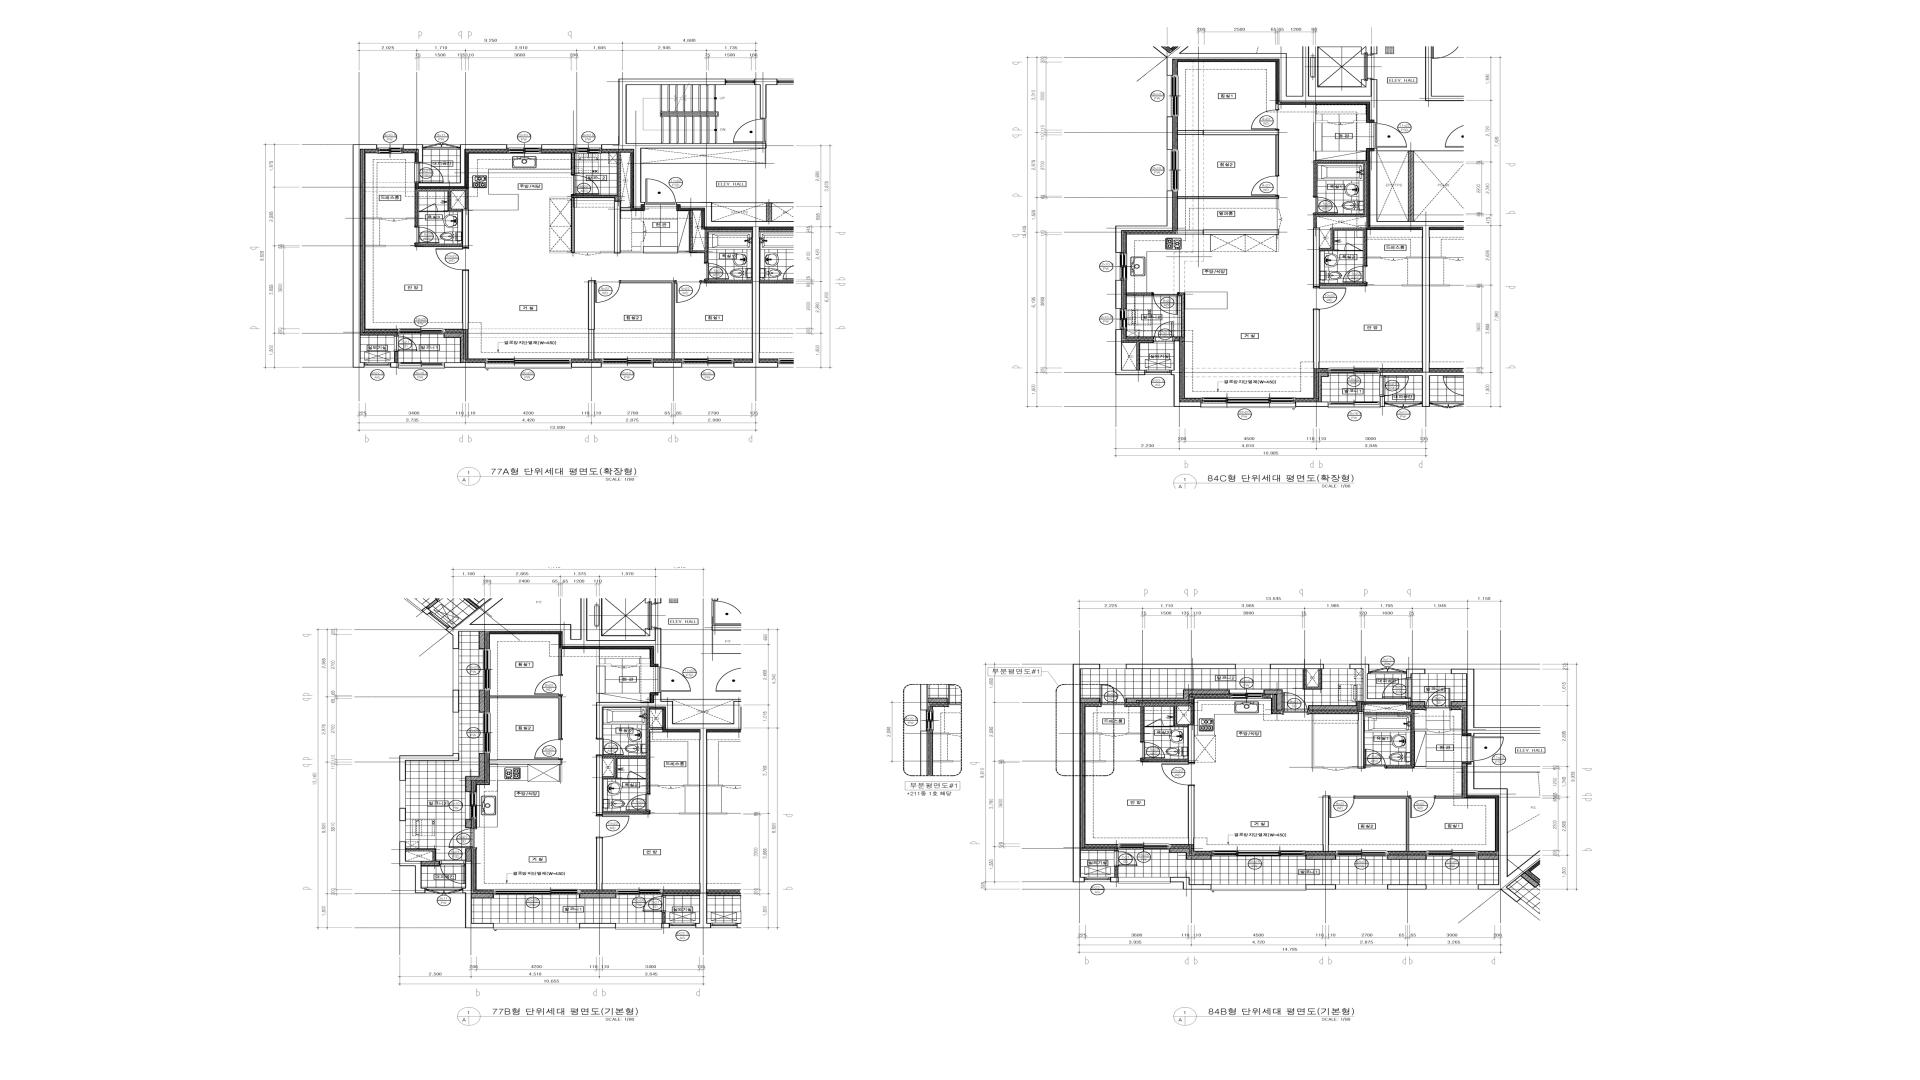door: (645, 178, 676, 204), (1374, 123, 1407, 148), (658, 667, 691, 692), (1470, 736, 1503, 761), (733, 119, 766, 144), (435, 247, 469, 270), (1313, 286, 1346, 310), (1162, 762, 1195, 786), (596, 815, 629, 837), (1379, 678, 1412, 698), (1153, 291, 1179, 315), (675, 280, 702, 303), (595, 280, 621, 303), (1379, 376, 1408, 397), (534, 738, 563, 760), (571, 174, 600, 195), (440, 860, 465, 884), (1410, 795, 1436, 818), (1100, 684, 1126, 707), (1251, 175, 1279, 196), (414, 162, 443, 182), (448, 828, 477, 848), (534, 675, 563, 695), (1329, 795, 1354, 818), (1425, 688, 1451, 711), (1283, 692, 1308, 715), (1251, 109, 1279, 129), (596, 738, 624, 756), (1342, 265, 1367, 284), (414, 225, 439, 244), (1313, 196, 1338, 214), (1141, 741, 1166, 758), (625, 794, 650, 811), (704, 262, 729, 280), (1365, 749, 1386, 769), (1154, 322, 1174, 342), (1114, 851, 1138, 866), (642, 895, 666, 911), (394, 335, 417, 351), (1385, 401, 1422, 409), (1369, 667, 1407, 674), (423, 142, 460, 149), (426, 887, 463, 894), (421, 203, 438, 212), (628, 770, 644, 779), (1345, 243, 1362, 251), (1146, 719, 1163, 727), (1276, 208, 1282, 229), (1381, 257, 1407, 261), (575, 252, 601, 256), (381, 218, 406, 222), (1428, 729, 1451, 733), (1101, 733, 1127, 736), (658, 786, 684, 789), (1328, 123, 1353, 125), (612, 666, 637, 669), (1324, 767, 1349, 770), (644, 222, 646, 241)
wall: (596, 692, 741, 928), (1370, 148, 1464, 406), (601, 78, 766, 208), (676, 202, 794, 368), (1153, 46, 1378, 123), (446, 597, 662, 667), (1466, 761, 1540, 902), (550, 152, 620, 253), (1452, 669, 1540, 736), (1073, 663, 1100, 882), (352, 144, 377, 368), (603, 707, 663, 794), (1178, 129, 1279, 175), (621, 281, 675, 360), (418, 144, 508, 186), (1313, 160, 1367, 228), (1116, 190, 1174, 252), (1361, 704, 1415, 769), (690, 210, 752, 262), (489, 695, 562, 738), (1354, 795, 1410, 852), (1320, 228, 1367, 286), (406, 189, 469, 227), (1350, 663, 1412, 702), (1178, 229, 1279, 252), (1425, 46, 1464, 102), (1141, 703, 1195, 741), (1171, 340, 1201, 407), (463, 861, 493, 928), (641, 148, 766, 164), (1141, 727, 1188, 762), (400, 753, 459, 781), (601, 200, 632, 253), (1126, 690, 1229, 703), (400, 841, 426, 893), (1116, 330, 1145, 375), (1178, 196, 1279, 208), (754, 79, 778, 119), (1122, 340, 1154, 369), (1349, 712, 1365, 769), (465, 753, 485, 791), (1312, 713, 1324, 769), (443, 332, 464, 363), (406, 848, 440, 866), (1126, 663, 1236, 669), (588, 280, 595, 360), (1170, 848, 1212, 860), (1171, 877, 1212, 889), (462, 270, 469, 330), (1303, 669, 1323, 690), (1263, 690, 1283, 711), (1188, 786, 1195, 845), (596, 756, 603, 815), (1313, 310, 1320, 369), (489, 760, 562, 765), (1313, 228, 1320, 286), (1323, 795, 1329, 852), (1408, 152, 1414, 222), (404, 144, 423, 162), (596, 837, 603, 890), (1319, 372, 1329, 402), (462, 208, 469, 247), (1179, 293, 1185, 338), (1270, 663, 1324, 669), (596, 649, 612, 666), (1313, 104, 1328, 123), (621, 241, 644, 253), (1308, 705, 1357, 711), (1188, 724, 1195, 762), (1167, 116, 1174, 149), (444, 363, 485, 368), (1387, 884, 1427, 889), (1387, 855, 1427, 860), (702, 280, 752, 284), (579, 893, 616, 898), (414, 243, 463, 247), (1116, 280, 1122, 309), (580, 923, 616, 928), (603, 811, 650, 815), (542, 144, 575, 149), (1407, 669, 1425, 678), (1305, 855, 1336, 860), (571, 363, 601, 368), (653, 363, 682, 368), (452, 690, 459, 712), (479, 690, 485, 712), (1296, 402, 1328, 406), (766, 203, 773, 222), (1305, 885, 1336, 889), (1378, 150, 1464, 152), (479, 632, 485, 649), (472, 893, 493, 898), (712, 202, 794, 203), (662, 699, 741, 700), (1478, 855, 1498, 860), (360, 332, 398, 335), (662, 893, 699, 895), (1081, 848, 1118, 851), (1081, 698, 1100, 703), (571, 152, 575, 174), (465, 848, 472, 861), (1451, 700, 1466, 705), (400, 808, 406, 820), (559, 647, 562, 675), (1436, 795, 1462, 798), (1126, 293, 1153, 295), (465, 819, 472, 828), (1411, 702, 1425, 705), (1085, 760, 1106, 762), (1402, 284, 1423, 286), (679, 812, 699, 815), (662, 911, 666, 923), (394, 351, 398, 363), (1085, 732, 1101, 735), (1114, 866, 1118, 877), (1110, 877, 1118, 882), (662, 923, 670, 928), (1407, 256, 1423, 258), (390, 363, 398, 368), (1381, 397, 1385, 406), (1127, 732, 1141, 735), (1415, 728, 1428, 731), (637, 663, 650, 666), (1367, 256, 1381, 258), (1353, 120, 1366, 123), (1451, 728, 1462, 731), (641, 211, 644, 222), (365, 245, 385, 247), (560, 765, 562, 782), (683, 785, 699, 786), (1275, 104, 1279, 109), (365, 218, 381, 219), (650, 785, 658, 786)
window: (1201, 397, 1296, 407), (493, 923, 580, 930), (493, 889, 579, 895), (1212, 885, 1305, 890), (1212, 851, 1305, 856), (1167, 149, 1179, 190), (1167, 75, 1179, 116), (485, 364, 572, 369), (485, 359, 571, 364), (601, 359, 653, 367), (682, 359, 733, 367), (1328, 401, 1381, 407), (1118, 877, 1171, 884), (1116, 252, 1127, 280), (465, 791, 477, 819), (483, 712, 491, 753), (483, 649, 491, 690), (1229, 690, 1263, 699), (508, 144, 542, 153), (616, 923, 662, 930), (616, 889, 662, 895), (1328, 368, 1381, 373), (1427, 851, 1478, 856), (1336, 851, 1387, 856), (1118, 844, 1170, 849), (452, 712, 459, 753), (452, 649, 459, 690), (1116, 309, 1127, 330), (377, 144, 404, 153), (575, 144, 601, 153), (398, 328, 443, 334), (1427, 885, 1478, 889), (1336, 885, 1387, 889), (398, 365, 444, 369), (400, 781, 406, 808), (1236, 663, 1270, 669), (725, 79, 754, 84), (1145, 369, 1171, 375), (400, 820, 406, 841), (1084, 877, 1110, 882), (1425, 669, 1452, 674), (1324, 663, 1350, 669), (1100, 663, 1126, 669), (670, 923, 696, 928), (364, 363, 390, 368), (398, 363, 444, 365)
